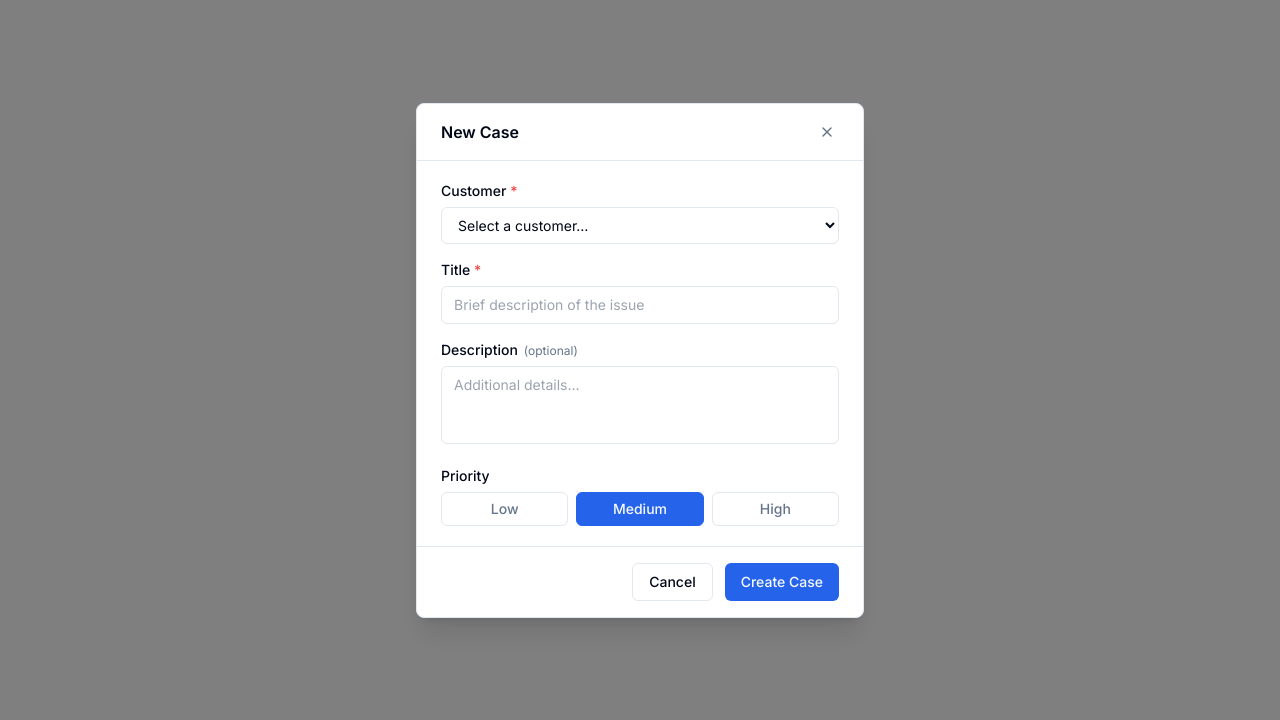
Test case: CreateCaseModal › shows API error when mutateAsync throws
Select "Acme Corp" in the dropdown labelled "Customer *" at coordinates (640, 225), box top-left (441, 206), bottom-right (839, 244)
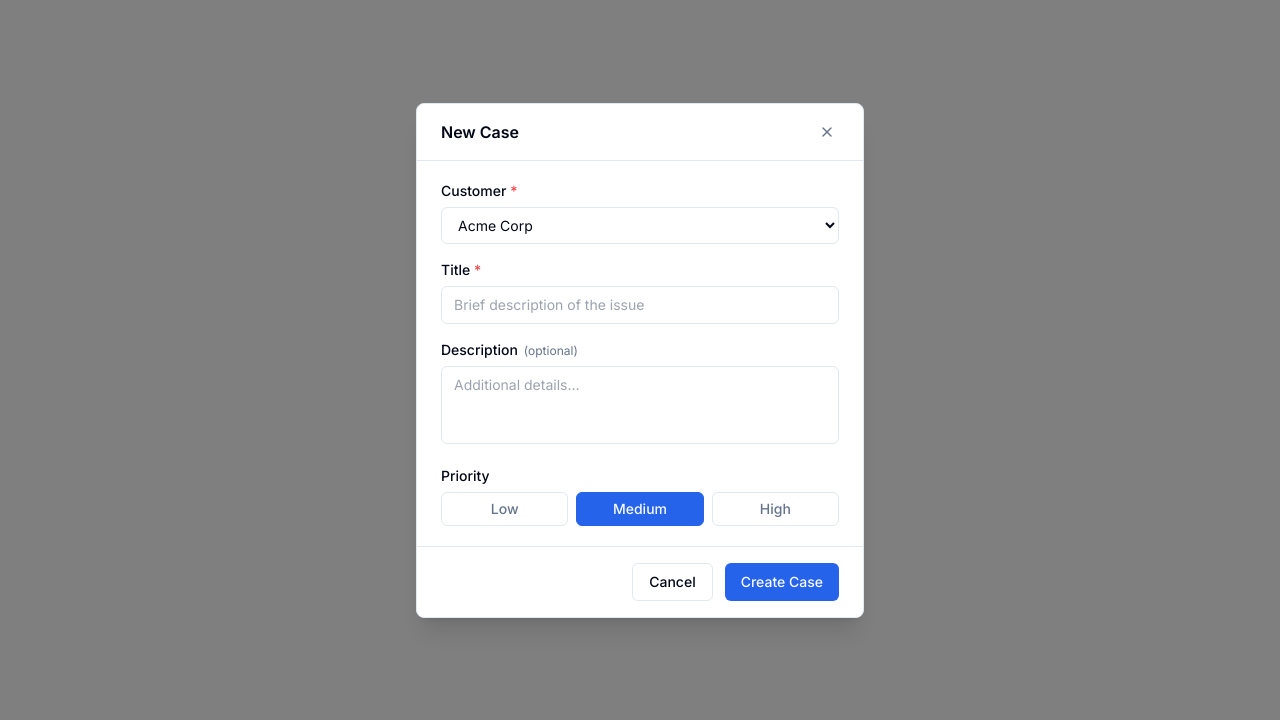
Type "Login bug" into the field labelled "Title *" at coordinates (640, 304), box top-left (441, 286), bottom-right (839, 324)
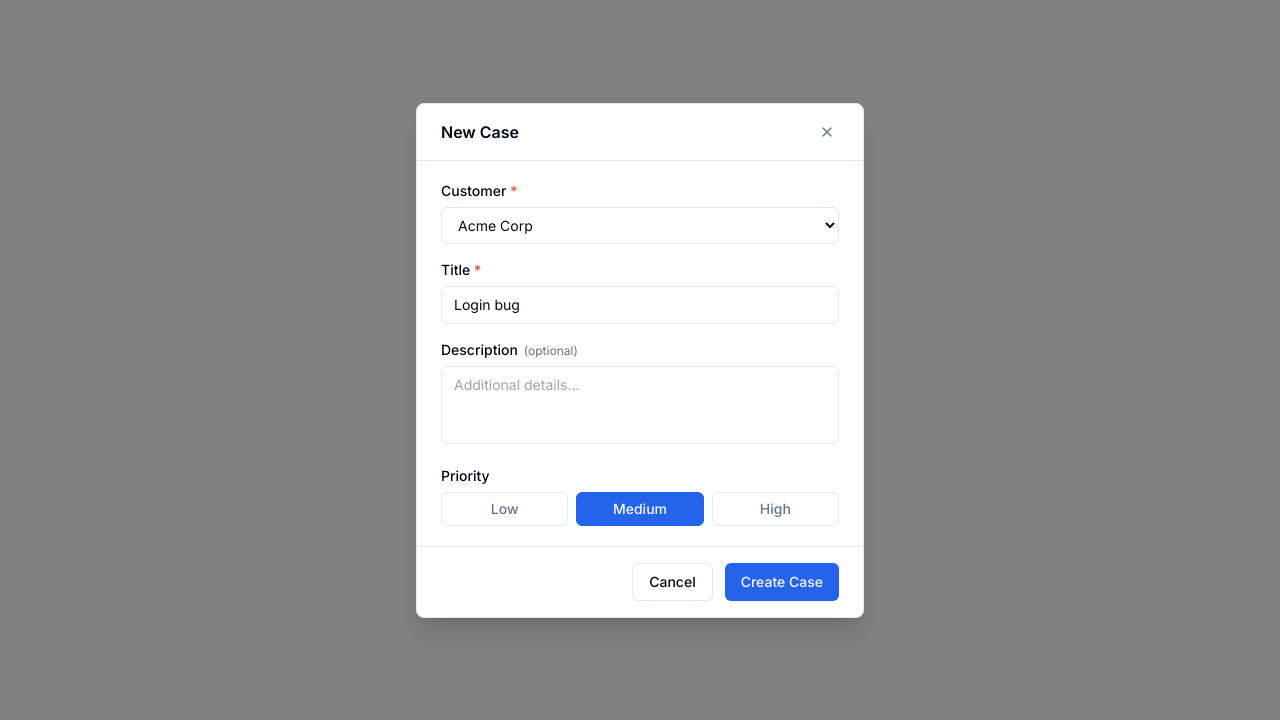
Click the button "Create Case" at coordinates (782, 582), box top-left (725, 562), bottom-right (839, 600)
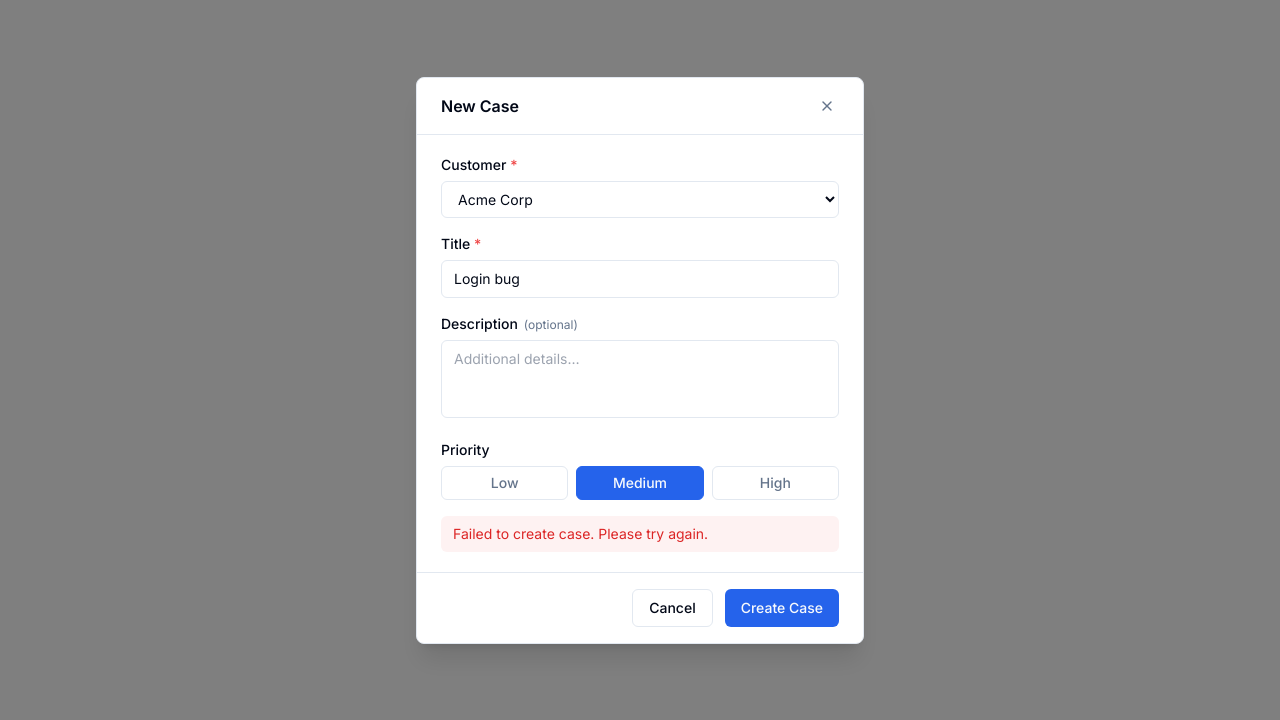
Check: the text "Failed to create case. Please try again." is shown, box top-left (441, 516), bottom-right (839, 552)
